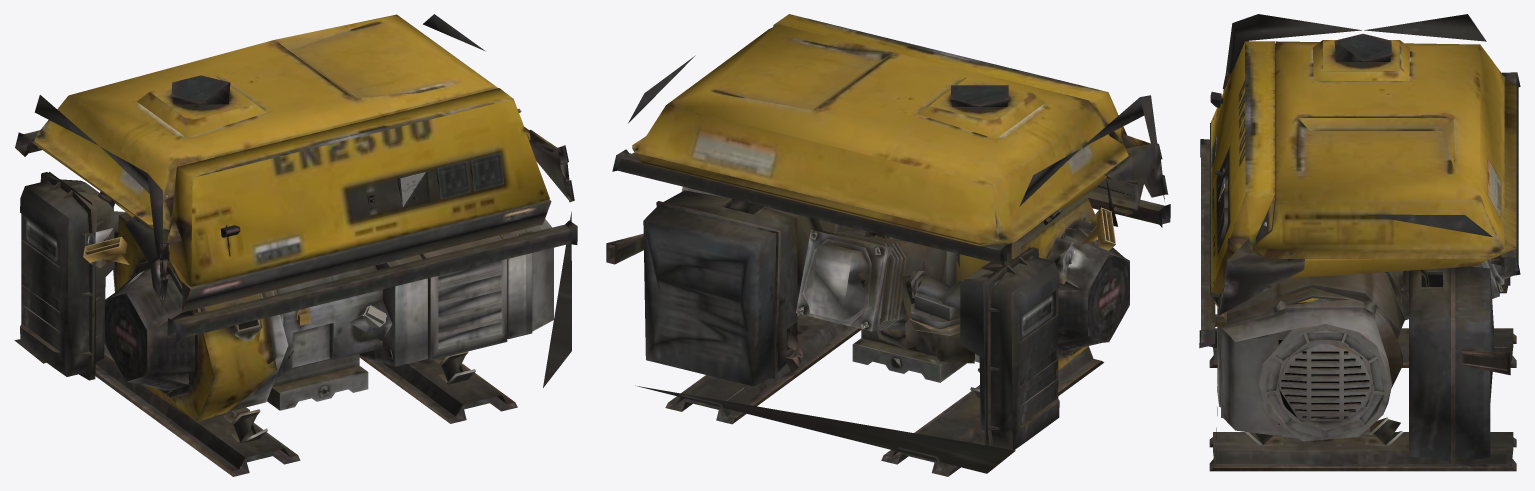
Rendered from portable_generator.glb.
The picture shows the model from 3 angles, left to right: view 1: azimuth 30°, elevation 25°; view 2: azimuth 150°, elevation 25°; view 3: azimuth 270°, elevation 25°; orthographic projection. The views are drawn at different scales.
Visible parts, largest first — view 1: portable_generator; view 2: portable_generator; view 3: portable_generator.
Part boxes in pixels (box(x1,y1,x2,y2)): portable_generator: box(14, 14, 577, 476); portable_generator: box(606, 14, 1170, 476); portable_generator: box(1199, 14, 1520, 471).
Size of the model in its own units: 0.8086 by 0.5747 by 0.5382.
2 materials, 2 textured.
